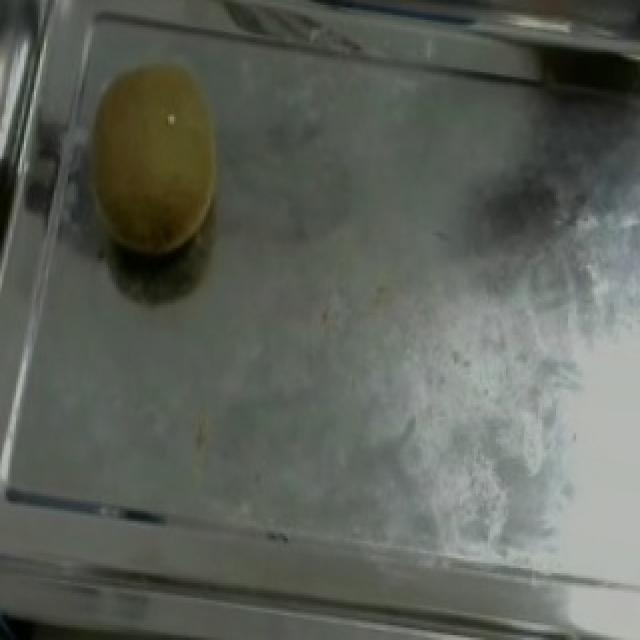Fruit: (38, 47, 246, 288)
